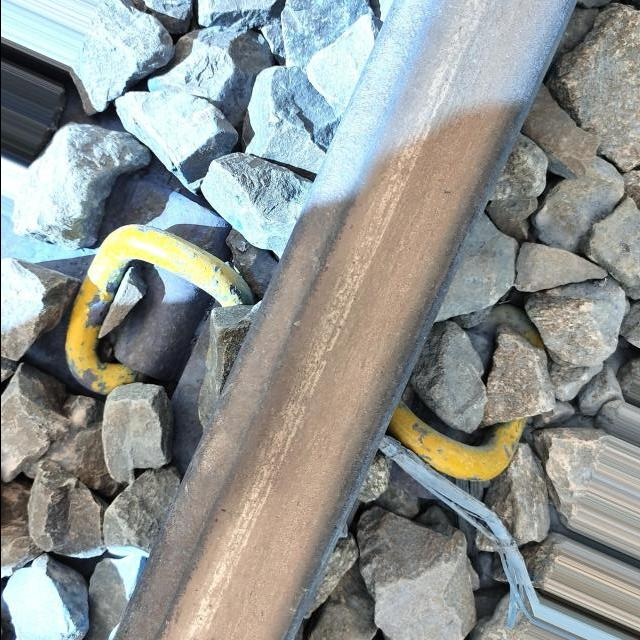squats_high: (211, 507, 229, 526), (441, 187, 454, 198)
